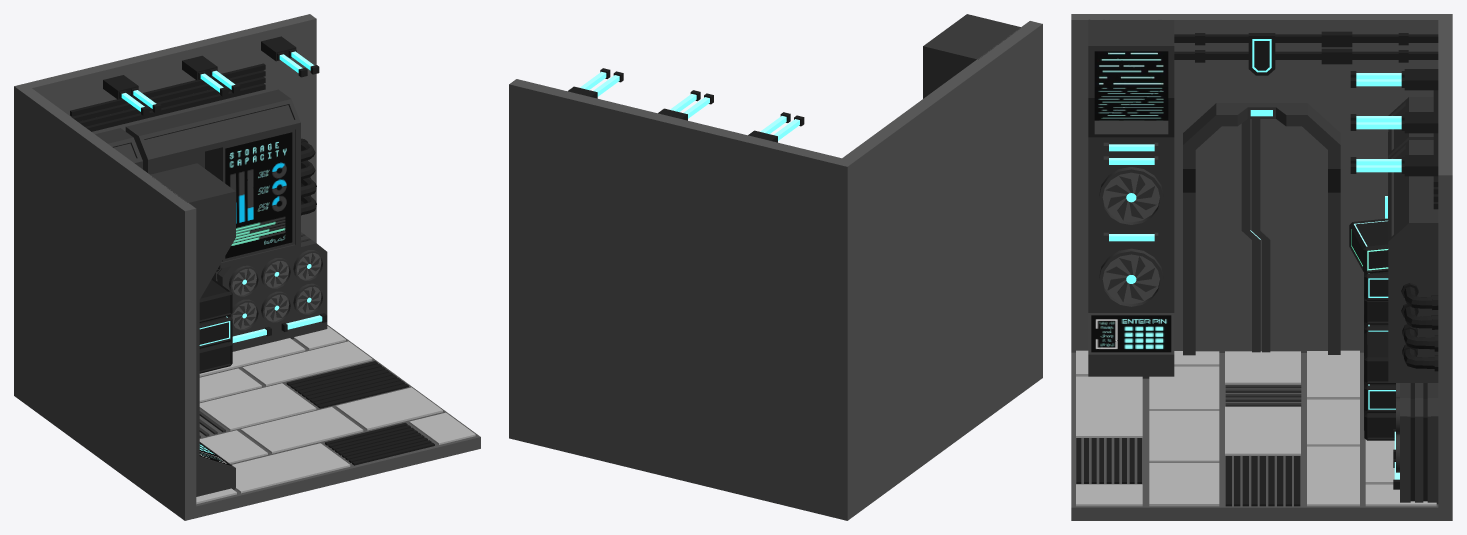
The model's file is storage-room.glb.
3 renders of one model, left to right at view 1: azimuth 30°, elevation 25°; view 2: azimuth 150°, elevation 25°; view 3: azimuth 270°, elevation 25°, orthographic. The views are drawn at different scales.
Visible parts, largest first — view 1: Object_4, Object_6, Object_16, Object_8, Object_5, Object_17, Object_7; view 2: Object_4, Object_6, Object_7, Object_8; view 3: Object_4, Object_6, Object_16, Object_8, Object_5, Object_17, Object_7, Object_18.
Part boxes in pixels (x1,y1,x2,y2): Object_4: (14, 14, 480, 520); Object_6: (95, 89, 327, 496); Object_16: (196, 326, 475, 504); Object_8: (70, 36, 327, 373); Object_5: (199, 132, 292, 465); Object_17: (286, 361, 434, 465); Object_7: (121, 51, 322, 345); Object_4: (509, 21, 1042, 520); Object_6: (923, 14, 1021, 98); Object_7: (580, 71, 799, 140); Object_8: (568, 68, 804, 142); Object_4: (1071, 14, 1452, 520); Object_6: (1088, 19, 1438, 504); Object_16: (1076, 350, 1436, 506); Object_8: (1174, 31, 1438, 501); Object_5: (1091, 51, 1171, 352); Object_17: (1076, 438, 1300, 506); Object_7: (1109, 39, 1401, 479); Object_18: (1225, 385, 1301, 406).
Bounding box in the file's own units: 2.63 × 2.63 × 2.63.
Materials: 7 (1 with a texture image).
